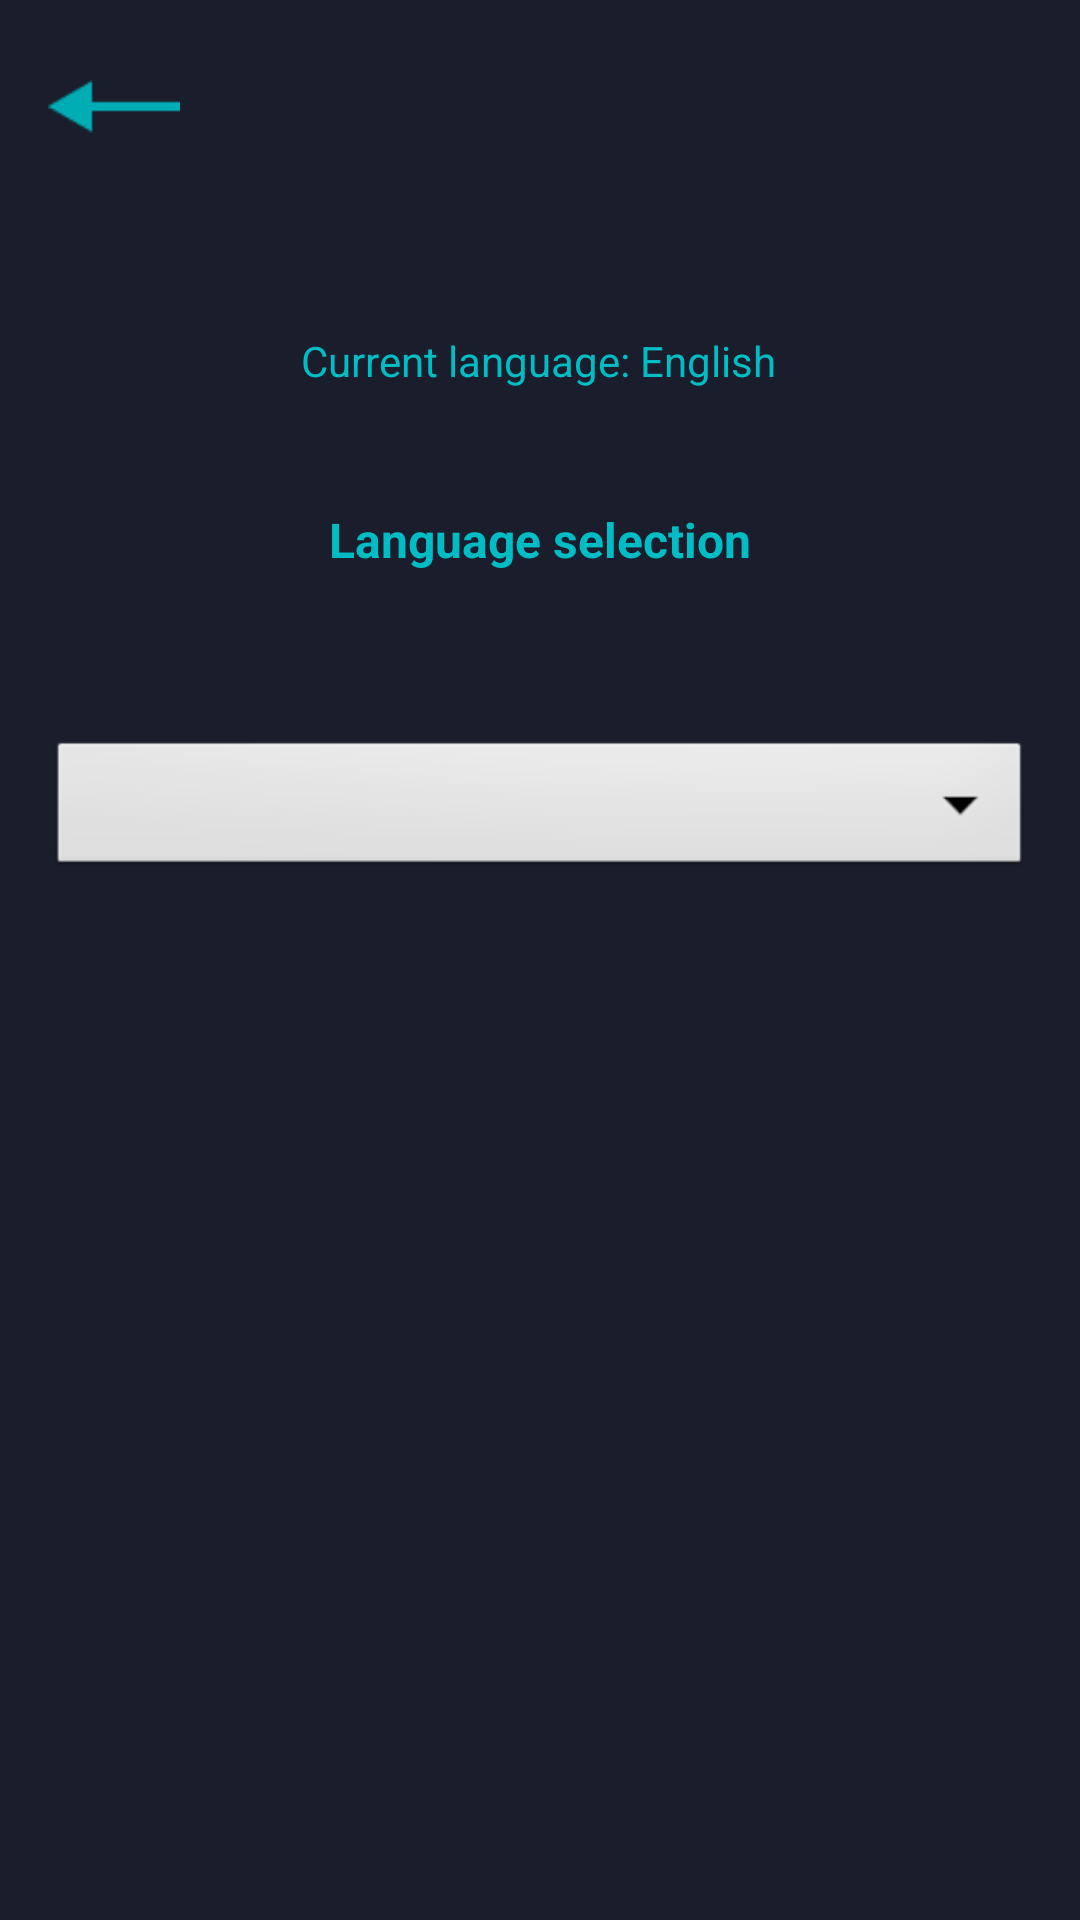

Icon click points for this 1080×1920 phone screenshot, format [x,y]:
back arrow: [114,106]
